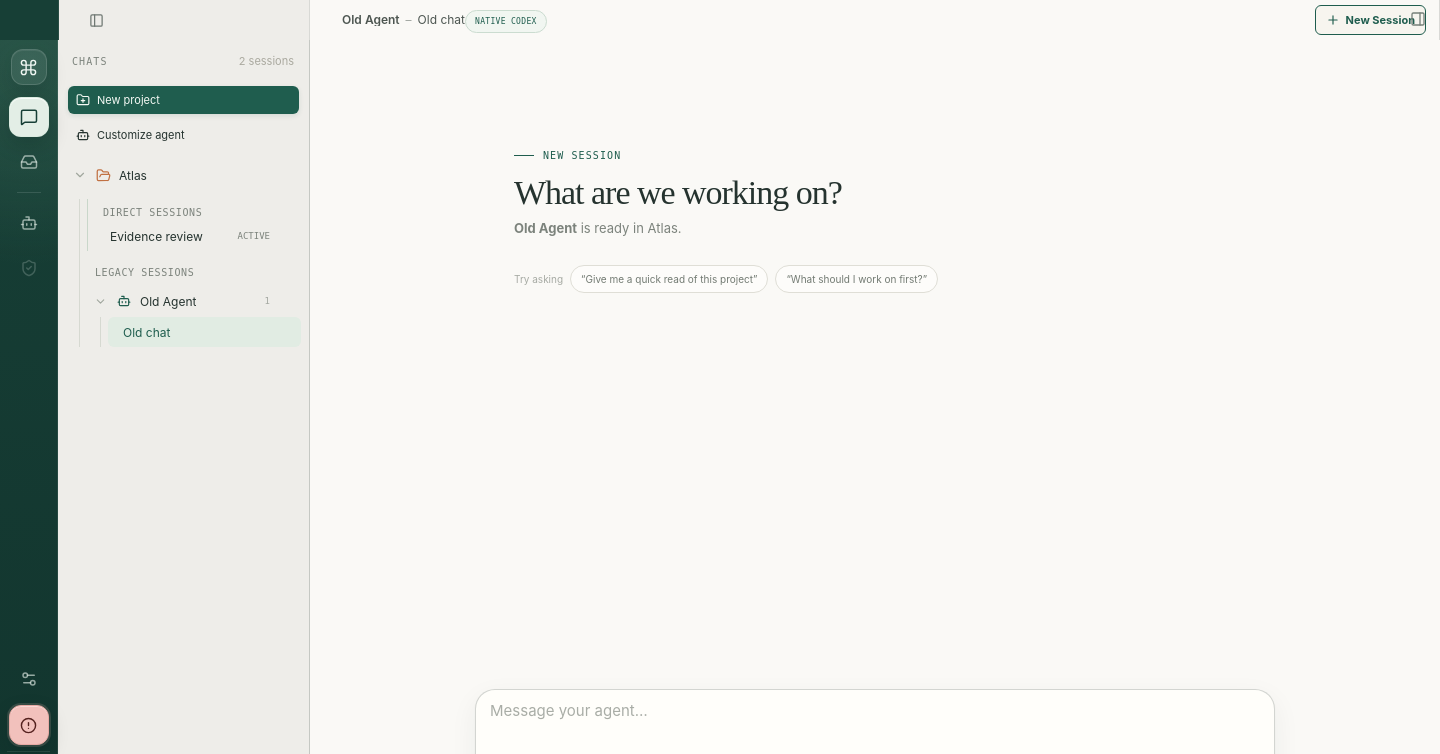
it: groups host Direct Sessions separately from legacy chat and opens the pinned detail
Click the button with aria-label "Evidence review, Direct Session, active": (198, 236) [95,221,301,251]
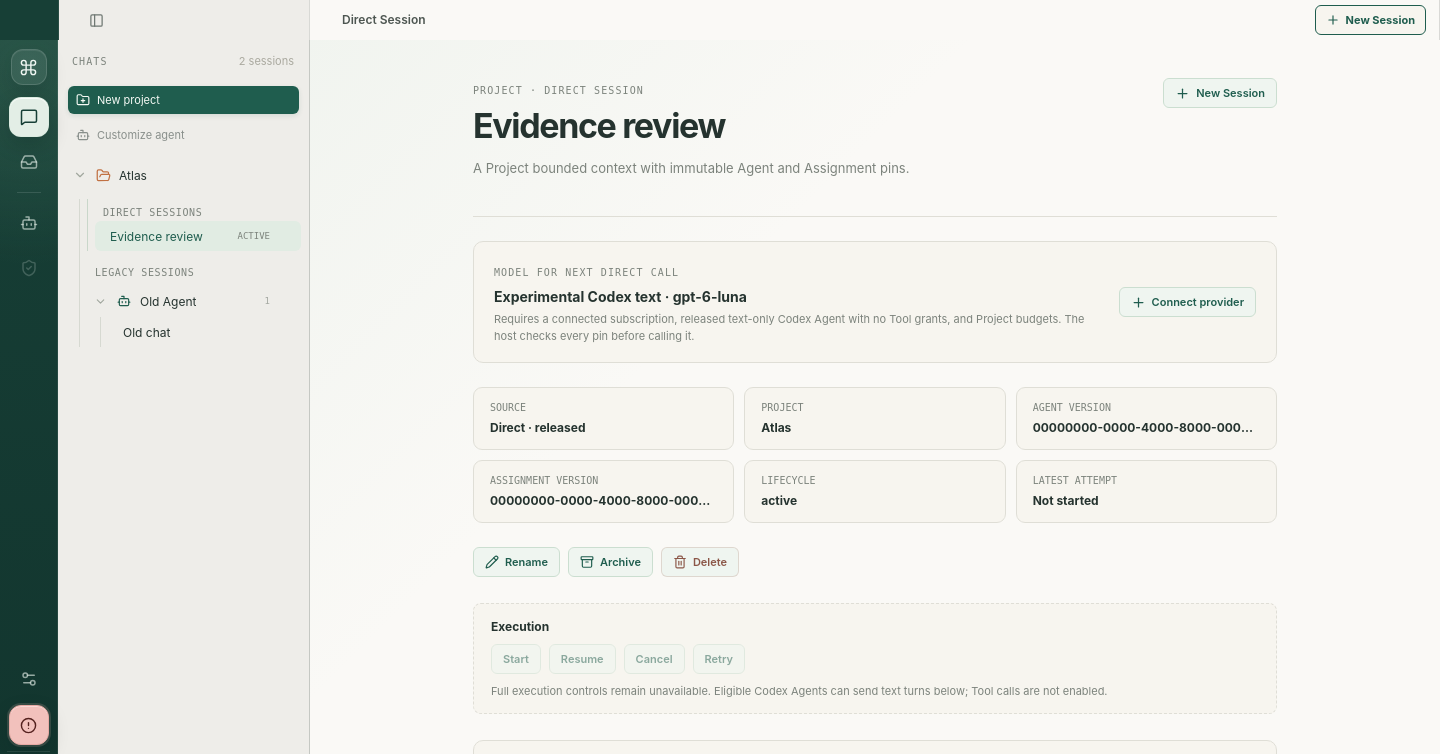
Now the text "00000000-0000-4000-8000-000000000006" is shown, box [490,493,717,508]
